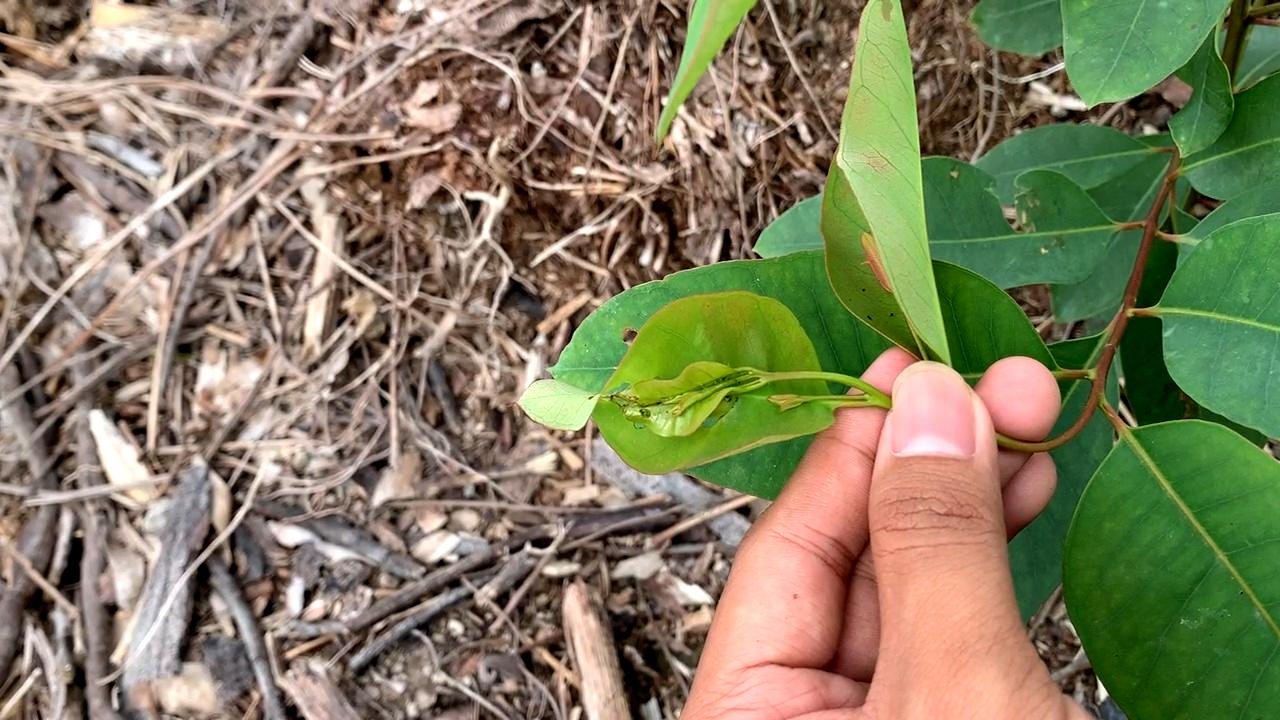Leaf Roller - Leaf: (514, 303, 840, 466)
